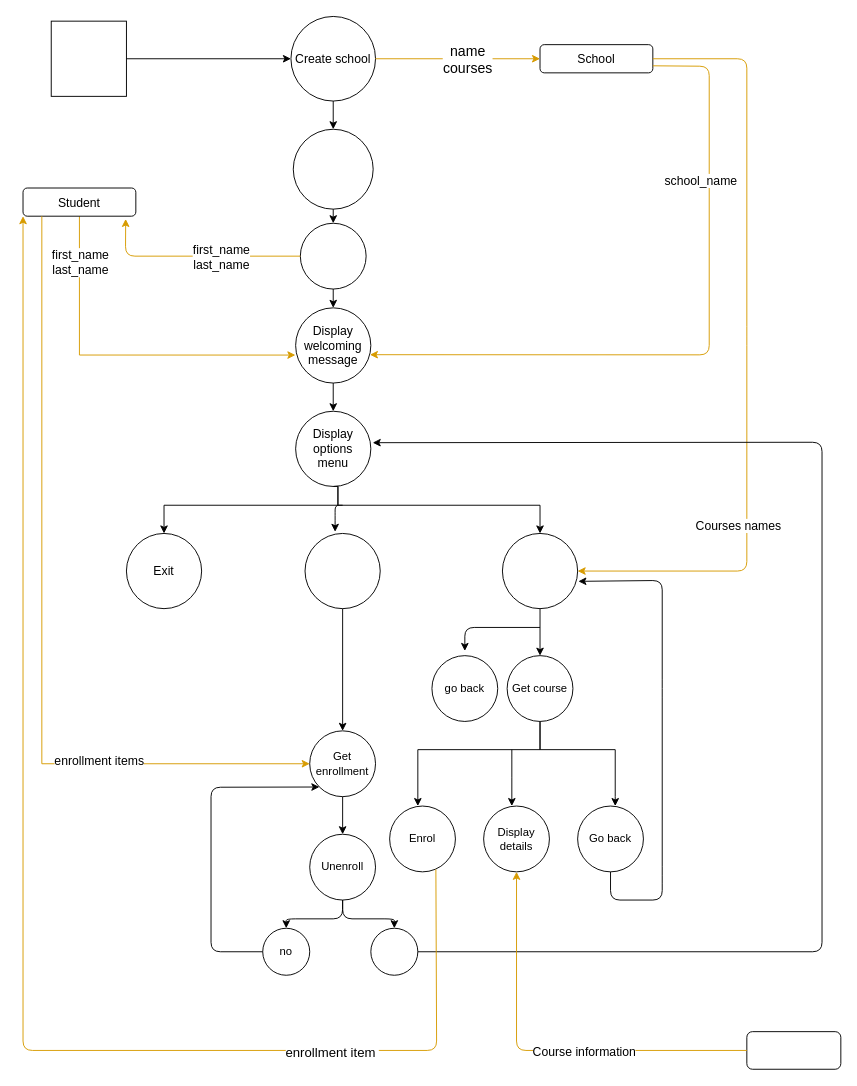
Some shapes in this 857 by 1086 pixel diagram are drawn without their labels. Each missing label, with the centre of its shape:
"App" goes at (88,58).
"Course" goes at (793,1050).
"Get user first and last name" goes at (332,168).
"Show courses list" goes at (539,571).
"show enrollments" goes at (342,571).
"validate username" goes at (332,255).
"yes" goes at (394,951).
